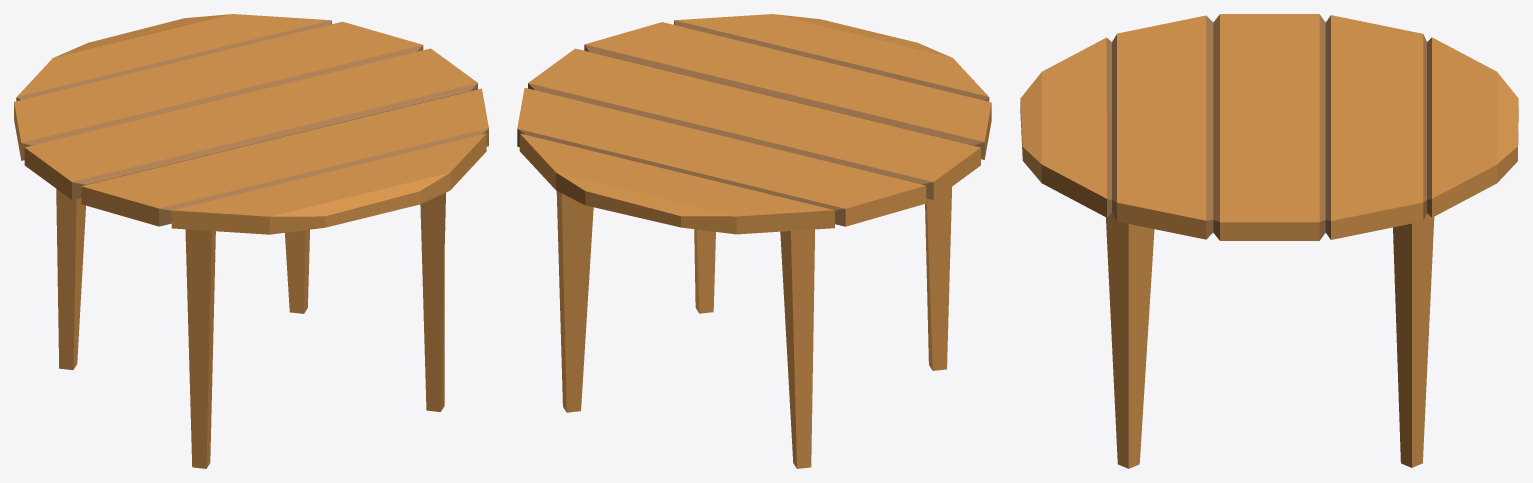
File: Table_Round.FBX
The picture shows the model from 3 angles, left to right: view 1: azimuth 30°, elevation 25°; view 2: azimuth 150°, elevation 25°; view 3: azimuth 270°, elevation 25°; orthographic projection. The views are drawn at different scales.
Visible parts, largest first — view 1: Table_Round; view 2: Table_Round; view 3: Table_Round.
Boxes of the visible parts, box(x1,y1,x2,y2) form: Table_Round: box(14, 14, 488, 468); Table_Round: box(517, 14, 991, 468); Table_Round: box(1020, 14, 1518, 468).
Size of the model in its own units: 117 by 75 by 118.
